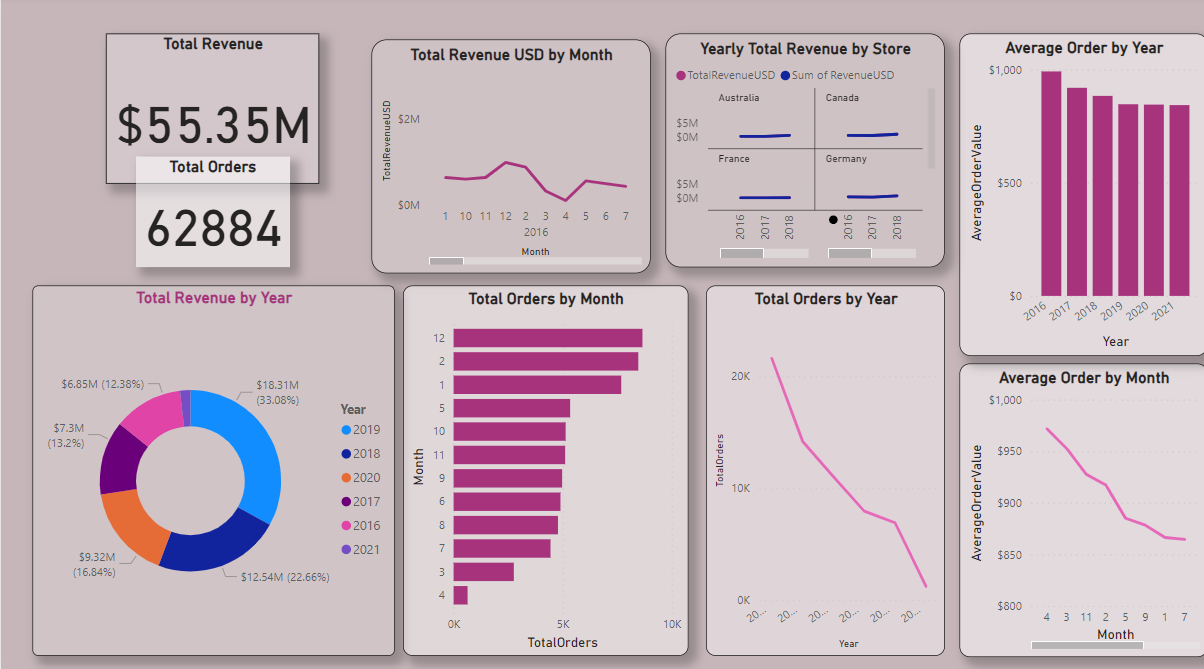

The page's visual inventory and layout, read from the dashboard file:
{"tool":"powerbi","page":{"name":"Report Layout","canvas":[1280,720],"ordinal":1},"visuals":[{"type":"card","title":"Total Revenue ","fields":{"Values":["Sum(Sales.RevenueUSD)"]},"box":[111.7,39,226.1,159.6],"z":0},{"type":"donutChart","title":"Total Revenue by Year","fields":{"Category":["Sales.Year"],"Y":["Sales.TotalRevenueUSD"]},"box":[32.8,307.7,383.9,392.8],"z":1000},{"type":"lineChart","title":"Average Order by Month","fields":{"Y":["Sales.AverageOrderValue"],"Category":["Sales.Month"]},"box":[1016.4,389.7,264,310.2],"z":2000},{"type":"clusteredColumnChart","title":"Average Order by Year","fields":{"Y":["Sales.AverageOrderValue"],"Category":["Sales.Year"]},"box":[1016.4,39.8,264,332.4],"z":3000},{"type":"lineChart","title":"Total Revenue USD by Month","fields":{"Y":["Sales.TotalRevenueUSD"],"Category":["Sales.Year","Sales.Month"]},"box":[380.2,41.4,295.9,248.1],"z":4000},{"type":"lineChart","title":"Total Orders by Year","fields":{"Category":["Sales.Year"],"Y":["Sales.TotalOrders"]},"box":[748.4,307.7,253.6,392.8],"z":5000},{"type":"barChart","title":"Total Orders by Month","fields":{"Category":["Sales.Month"],"Y":["Sales.TotalOrders"]},"box":[425.6,307.7,302.4,392.8],"z":6000},{"type":"card","title":"Total Orders","fields":{"Values":["Sales.TotalOrders"]},"box":[143.6,170.2,163.2,117],"z":7000},{"type":"columnChart","title":"Yearly Total Revenue by Store","fields":{"Category":["Sales.Year"],"Y":["Sales.TotalRevenueUSD","Sum(Sales.RevenueUSD)"],"Rows":["Stores.Country"]},"box":[704.6,39.8,295.9,248.1],"z":8000}]}

Visuals, with their boxes in screenshot pixels (x1, y1, x2, y2), scaled from the page's 1280x720 canvas onto the 1204x669 screenshot:
"Total Revenue " card: crop(105, 36, 318, 185)
"Total Revenue by Year" donutChart: crop(31, 286, 392, 651)
"Average Order by Month" lineChart: crop(956, 362, 1203, 650)
"Average Order by Year" clusteredColumnChart: crop(956, 37, 1203, 346)
"Total Revenue USD by Month" lineChart: crop(358, 38, 636, 269)
"Total Orders by Year" lineChart: crop(704, 286, 943, 651)
"Total Orders by Month" barChart: crop(400, 286, 685, 651)
"Total Orders" card: crop(135, 158, 289, 267)
"Yearly Total Revenue by Store" columnChart: crop(663, 37, 941, 268)
